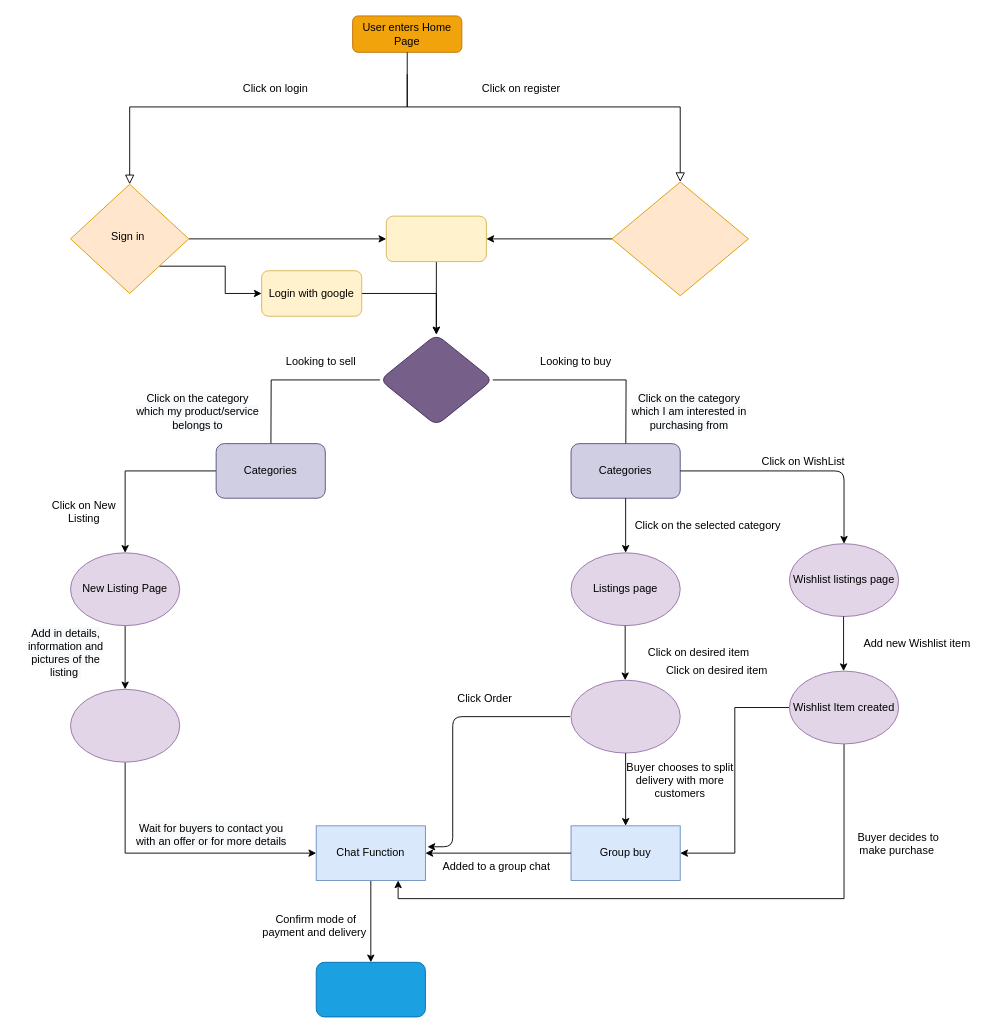
The diagram is 991 pixels wide and 1033 high, and some of its shapes have lost their labels. The shapes that lost their labels are listed below. From the top down, each one's centre as x and y in pixels, then its label:
At pixel 435 238: "Login with their registered email and password".
At pixel 679 238: "Sign up for account with email and password".
At pixel 436 379: "Home Page".
At pixel 125 725: "Listing Created Alert".
At pixel 625 716: "Expanded page with the item details".
At pixel 370 989: "Successful transaction".
